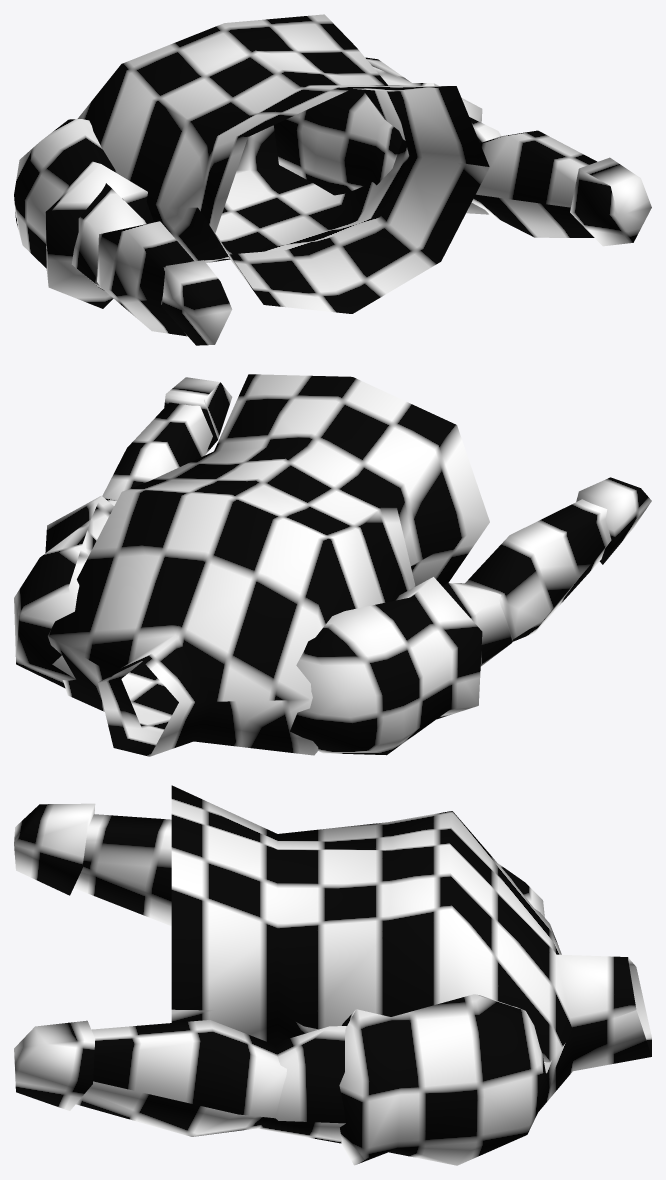
The model's file is initarpl11.dae.
3 views of the same model, one above another, from view 1: azimuth 30°, elevation 25°; view 2: azimuth 150°, elevation 25°; view 3: azimuth 270°, elevation 25° (orthographic). The views are drawn at different scales.
Visible parts, largest first — view 1: armor; view 2: armor; view 3: armor.
Part boxes in pixels (x1,y1,x2,y2): armor: (14,14,651,345); armor: (14,374,651,756); armor: (14,785,651,1165).
Size of the model in its own units: 1.48 by 1.66 by 0.7558.
1 material, 1 textured.
